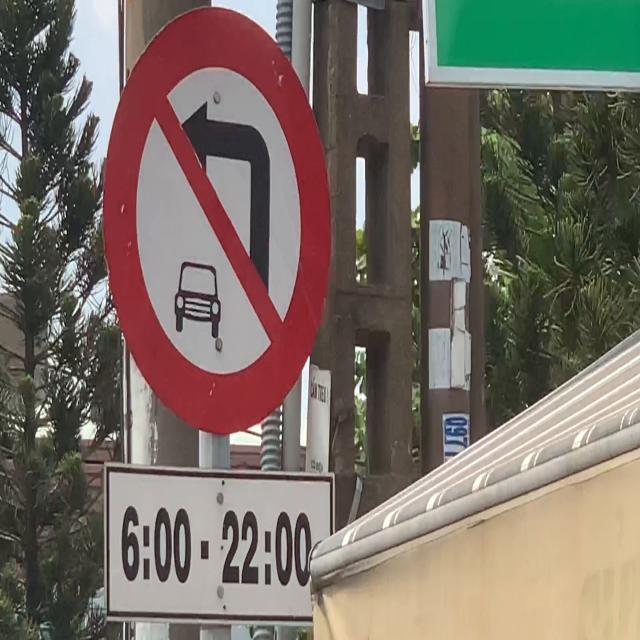Cam re trai: (101, 5, 333, 438)
